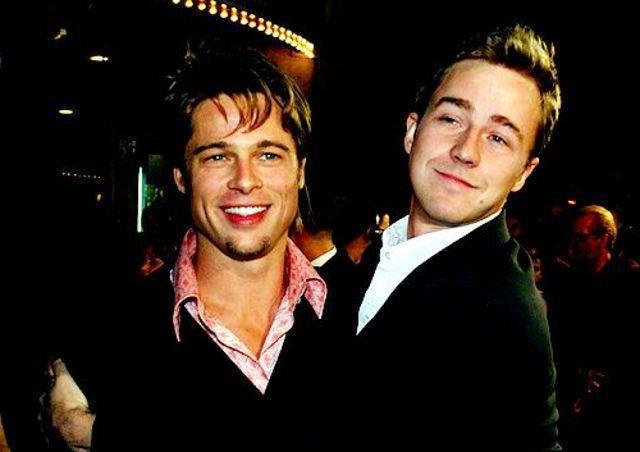Drunk: (193, 100, 299, 254), (422, 69, 525, 211)
